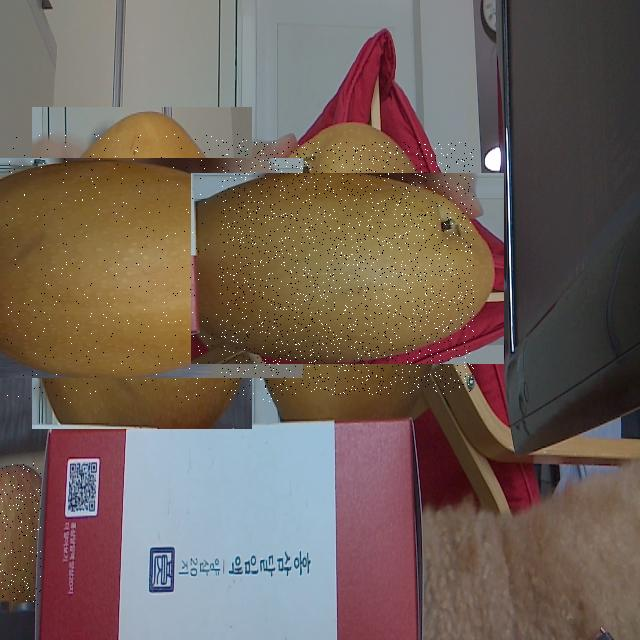apple: (0, 463, 41, 605)
pear: (6, 133, 278, 403), (221, 142, 474, 395)
